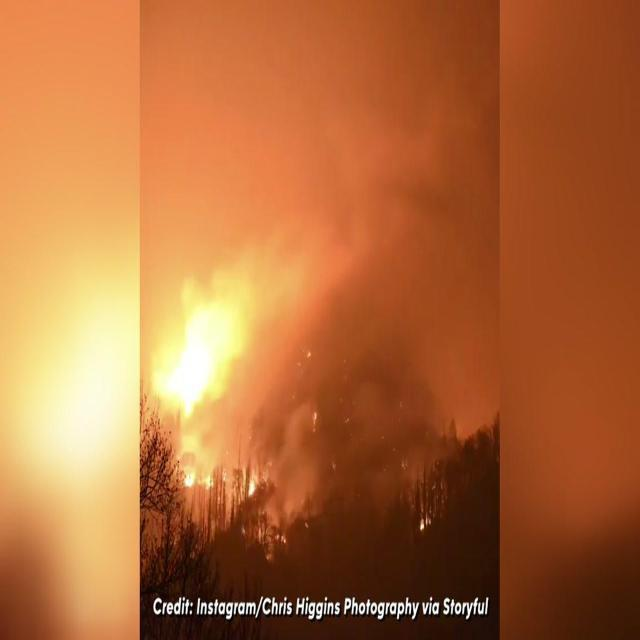Fire: (152, 290, 294, 554)
Smoke: (138, 0, 496, 514)
